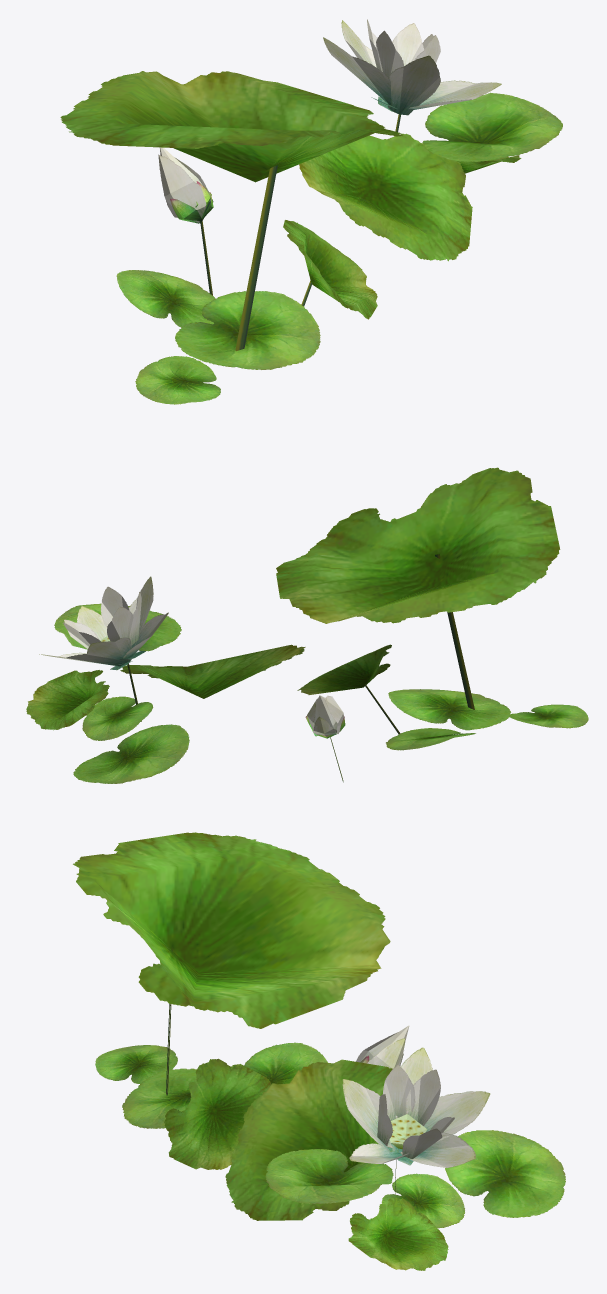
The model's file is yzc_hehua02.FBX.
3 renders of one model, top to bottom at view 1: azimuth 30°, elevation 25°; view 2: azimuth 150°, elevation 25°; view 3: azimuth 270°, elevation 25°, orthographic. The views are drawn at different scales.
Parts seen in each view (by area): view 1: yzc_hehua02; view 2: yzc_hehua02; view 3: yzc_hehua02.
Part boxes in pixels (x1=…): yzc_hehua02: x1=60, y1=19, x2=562, y2=404; yzc_hehua02: x1=26, y1=467, x2=588, y2=783; yzc_hehua02: x1=73, y1=832, x2=565, y2=1270.
Bounding box in the file's own units: 138 × 65.28 × 126.
